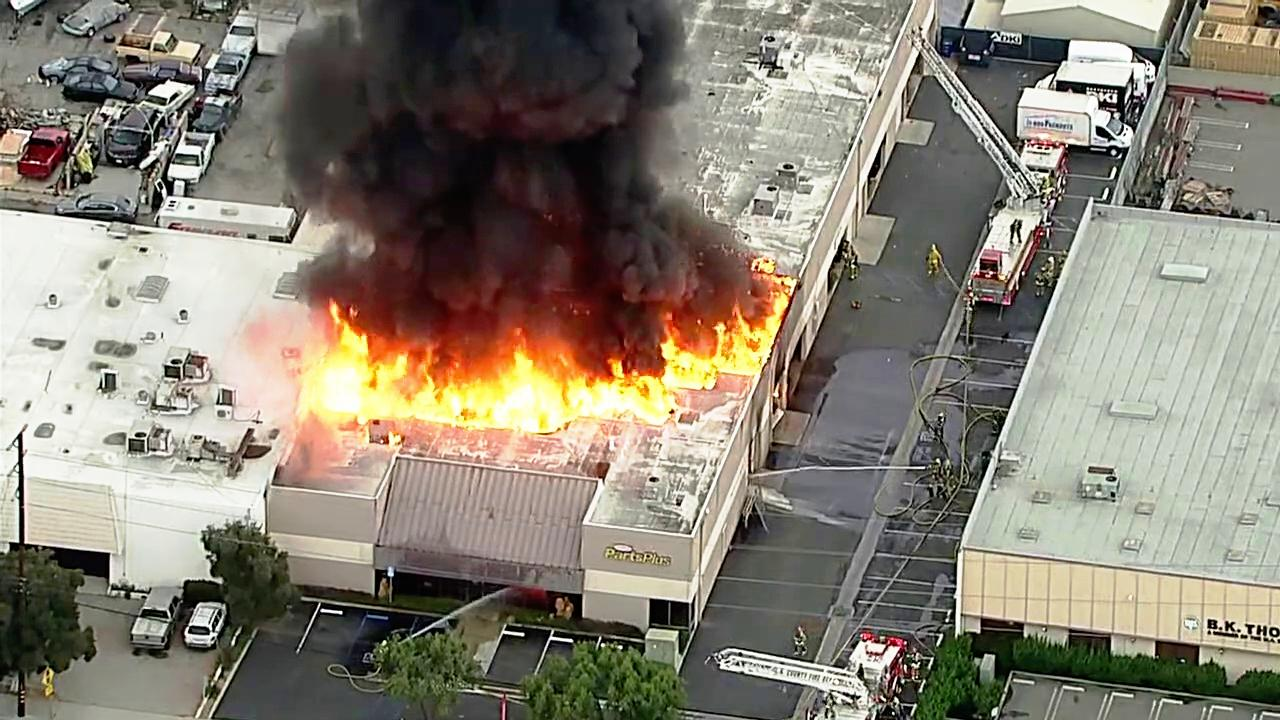fire: (379, 342, 560, 443), (551, 349, 695, 430), (304, 314, 391, 428), (709, 274, 787, 372)
smoke: (303, 0, 632, 175), (321, 188, 684, 322)
